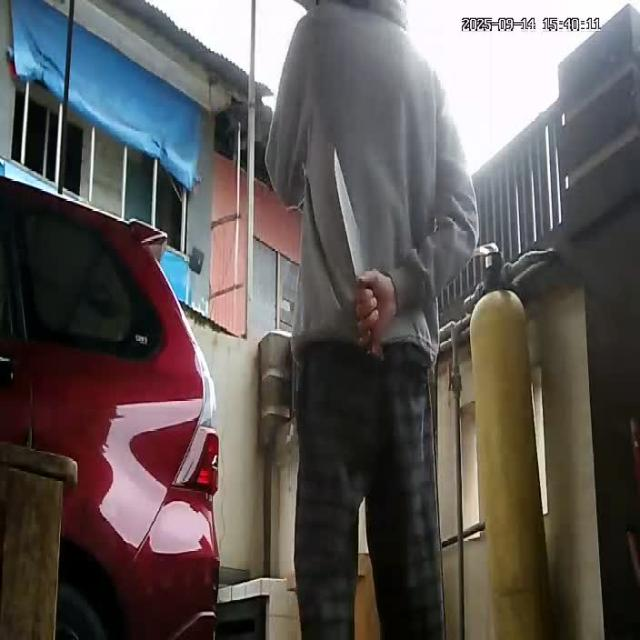senjata_tajam: (331, 145, 371, 282)
